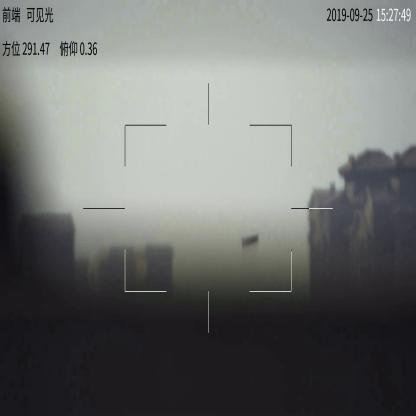uav: (238, 232, 256, 247)
